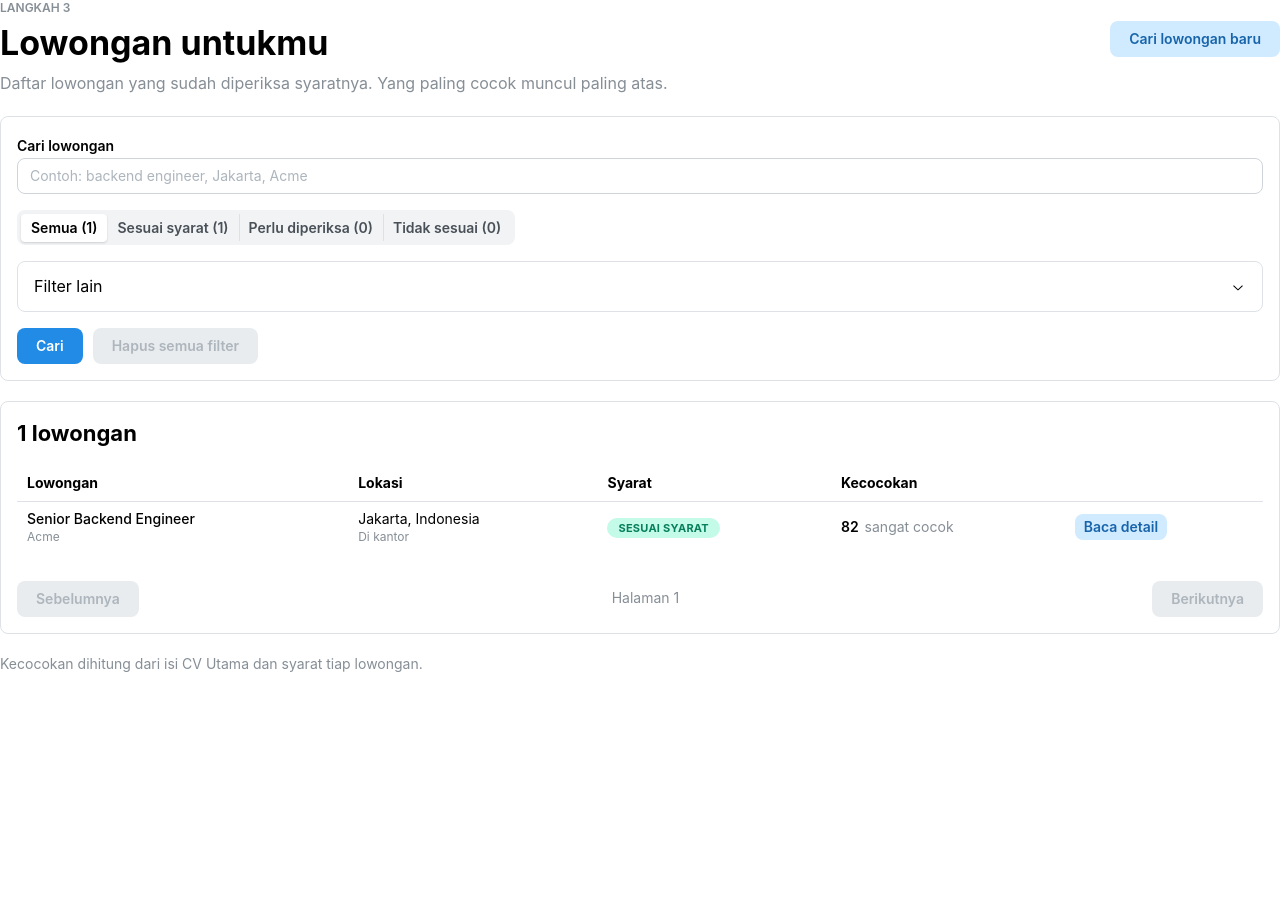
Scenario: MatchesPage › tells a closed job apart from a load failure by error code
The width and height of the screenshot is (1280, 900).
Click the text "Senior Backend Engineer" at (111, 518), box top-left (27, 510), bottom-right (195, 526)
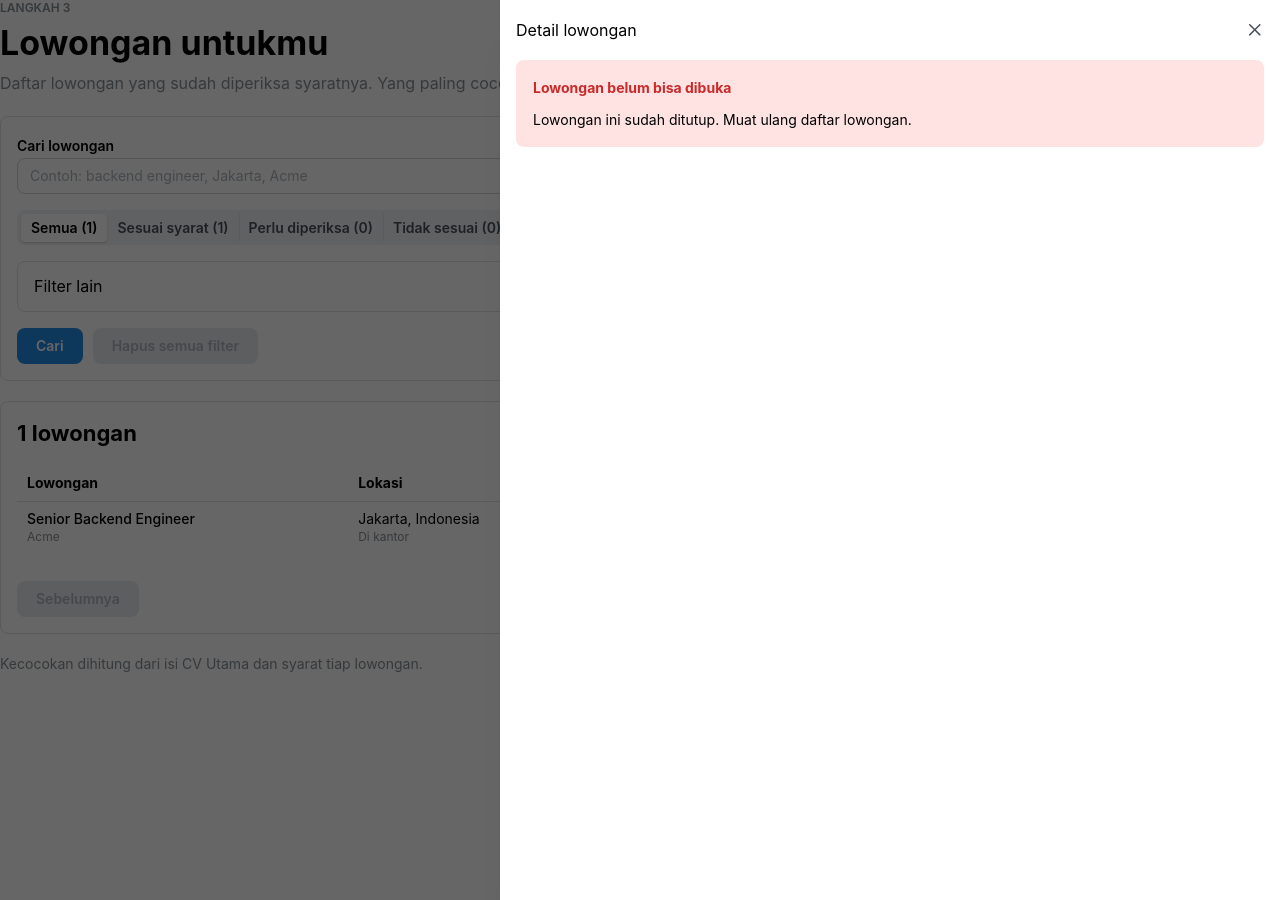
Check: the text "Lowongan ini sudah ditutup. Muat ulang daftar lowongan." is shown, box top-left (533, 111), bottom-right (912, 128)
